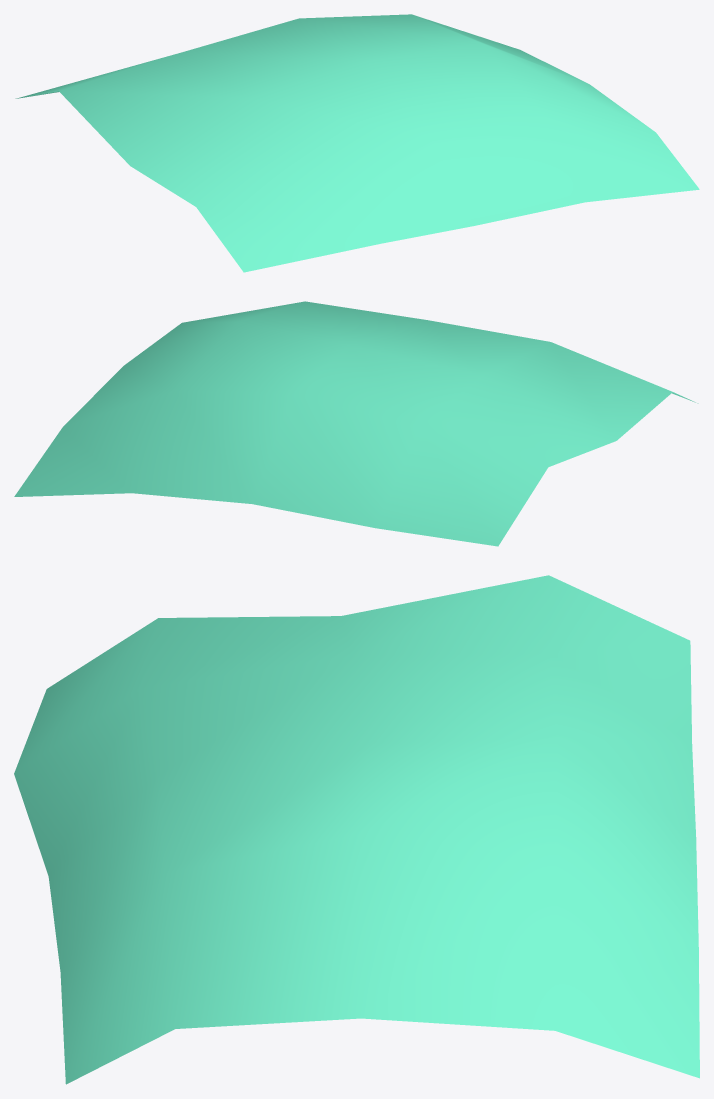
Rendered from foliage_000_ivy.glb.
3 views of the same model, one above another, from view 1: azimuth 30°, elevation 25°; view 2: azimuth 150°, elevation 25°; view 3: azimuth 270°, elevation 25° (orthographic). The views are drawn at different scales.
Visible parts, largest first — view 1: ivy.001; view 2: ivy.001; view 3: ivy.001.
Boxes of the visible parts, x1,y1,x2,y2 form: ivy.001: (15,14,699,272); ivy.001: (14,301,698,546); ivy.001: (14,575,699,1084).
Size of the model in its own units: 1.88 by 0.4343 by 1.52.
